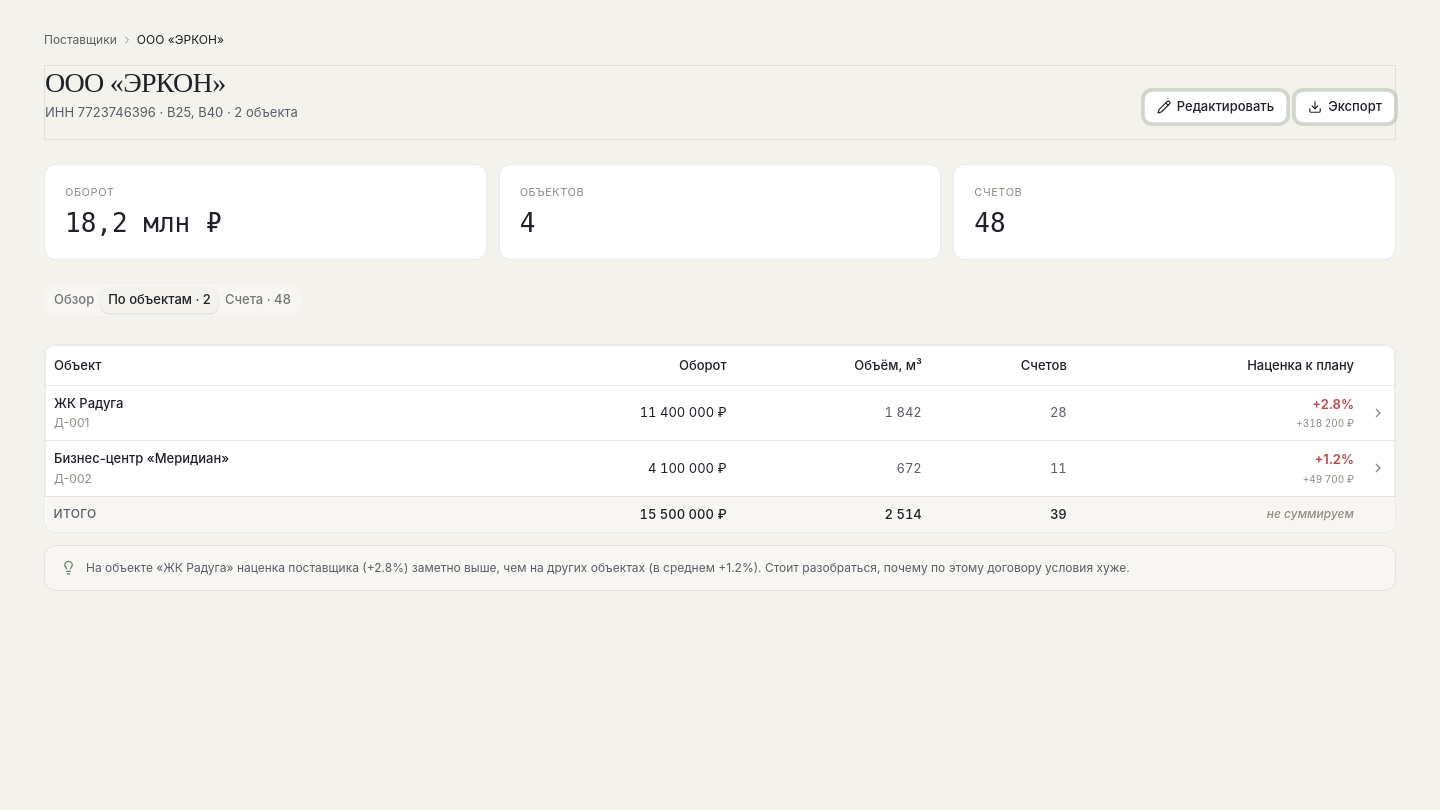
Test case: SupplierPage › switches to Обзор tab and shows INN
Click the tab "Обзор" at (74, 300), box [47, 288, 101, 313]
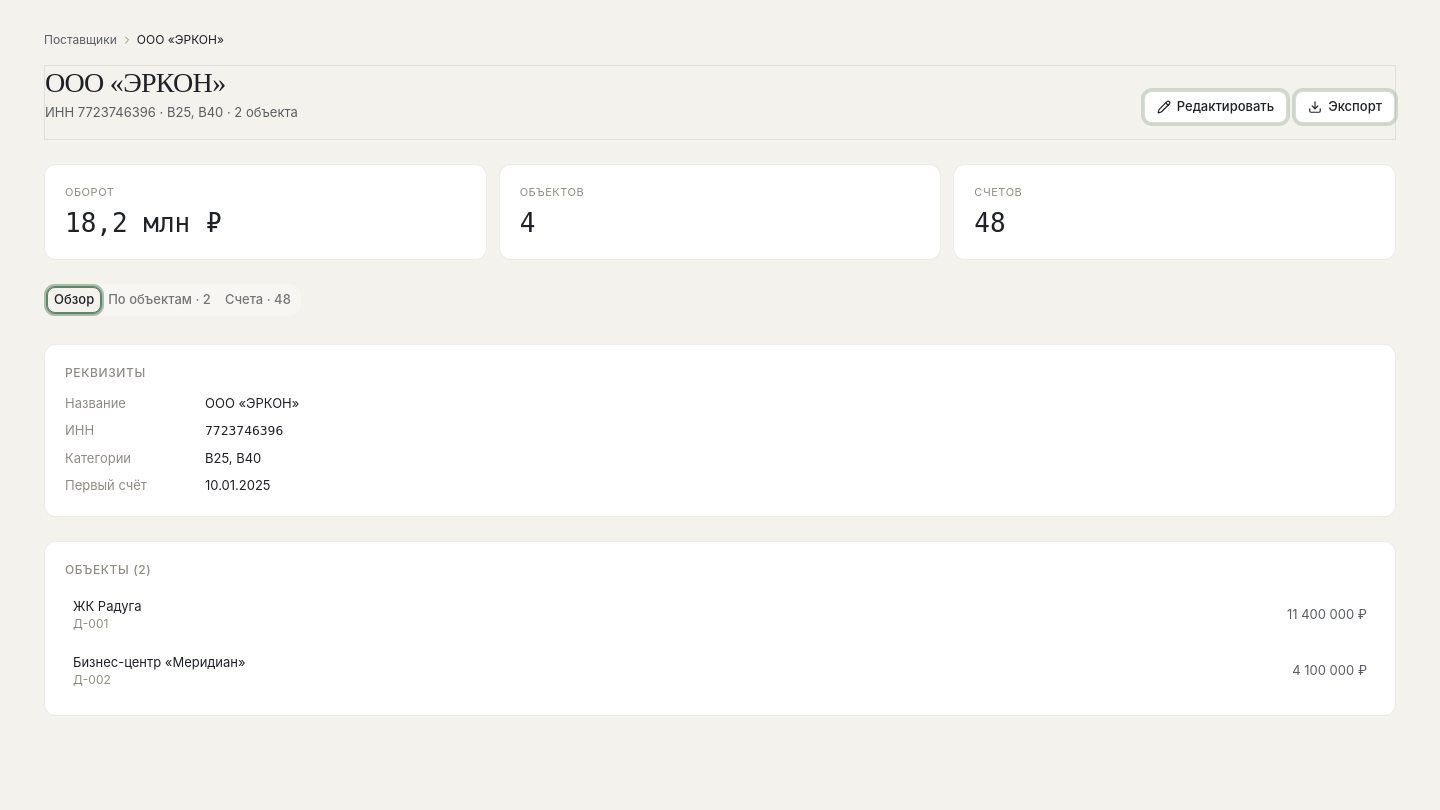
Expected: the text "7723746396" is shown, [205, 421, 283, 441]
